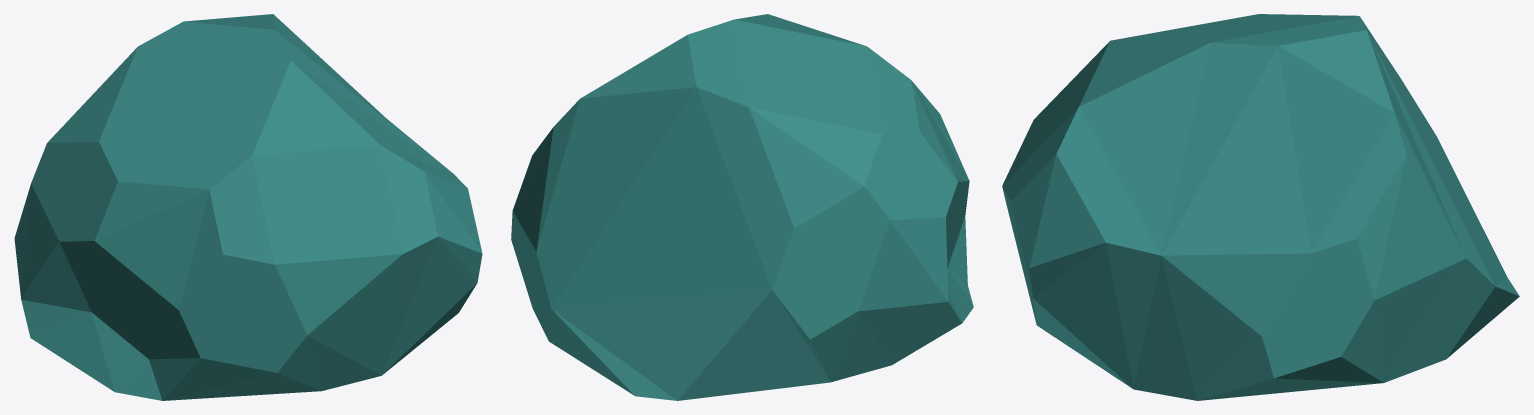
File: SM_Rock_Sea_Small_Round_A.fbx
3 renders of one model, left to right at view 1: azimuth 30°, elevation 25°; view 2: azimuth 150°, elevation 25°; view 3: azimuth 270°, elevation 25°, orthographic. The views are drawn at different scales.
Visible parts, largest first — view 1: rock-sea-small-round-a; view 2: rock-sea-small-round-a; view 3: rock-sea-small-round-a.
Part boxes in pixels (x1,y1,x2,y2): rock-sea-small-round-a: [14, 14, 482, 400]; rock-sea-small-round-a: [511, 14, 973, 400]; rock-sea-small-round-a: [1002, 14, 1519, 400].
Size of the model in its own units: 1.59 by 0.9516 by 1.58.
